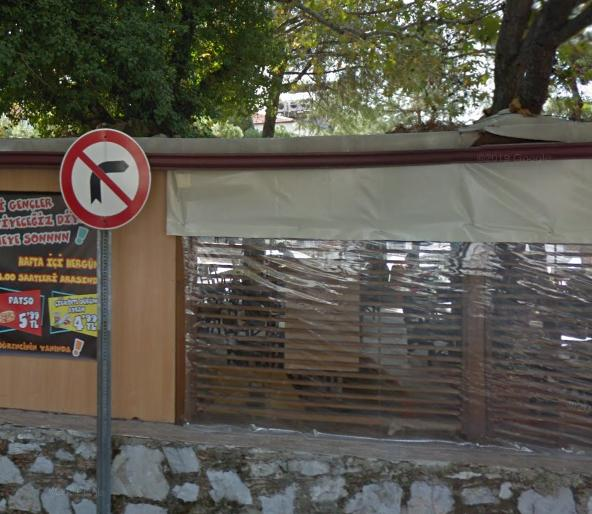rightturnsareforbidden: (64, 128, 149, 226)
